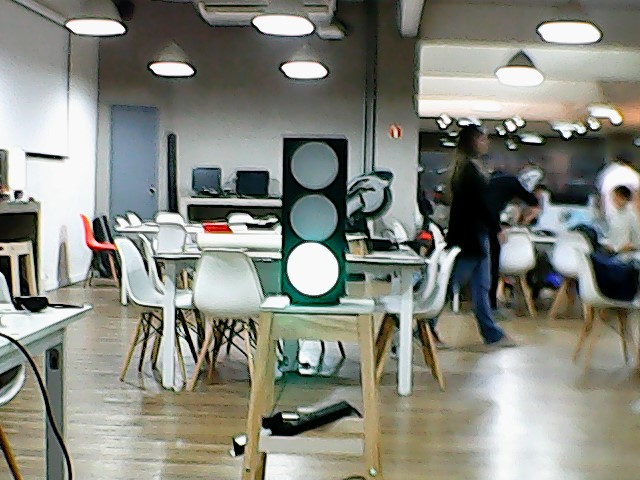verde: (274, 128, 351, 301)
